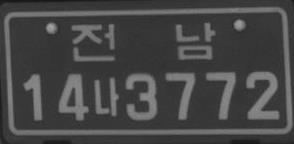1: (20, 72, 48, 122)
2: (245, 70, 280, 121)
3: (124, 71, 158, 122)
4: (56, 72, 90, 122)
7: (164, 70, 196, 121), (205, 70, 237, 120)
나: (92, 76, 119, 118)
전남_D: (70, 21, 217, 62)
